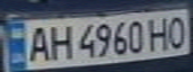0: (127, 17, 148, 54)
4: (75, 20, 96, 60)
6: (112, 18, 133, 56)
9: (93, 20, 115, 58)
A: (24, 24, 51, 63)
H: (45, 21, 75, 61), (145, 14, 175, 52)
O: (163, 12, 190, 50)
